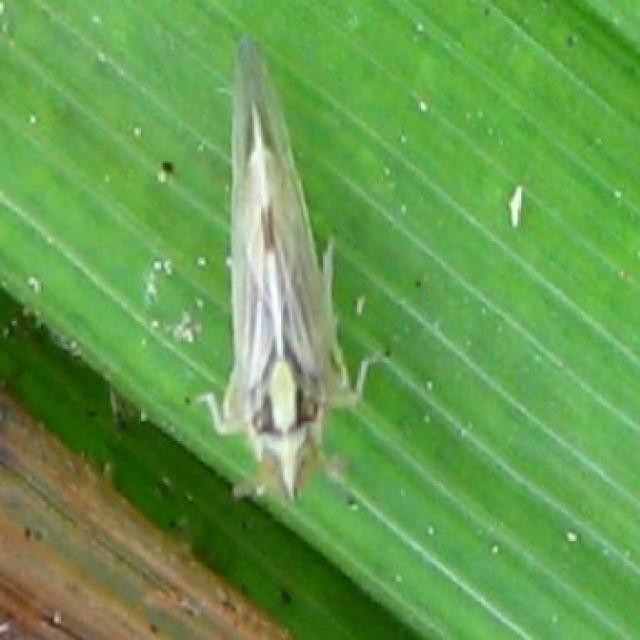brown-planthopper: (216, 36, 350, 496)
